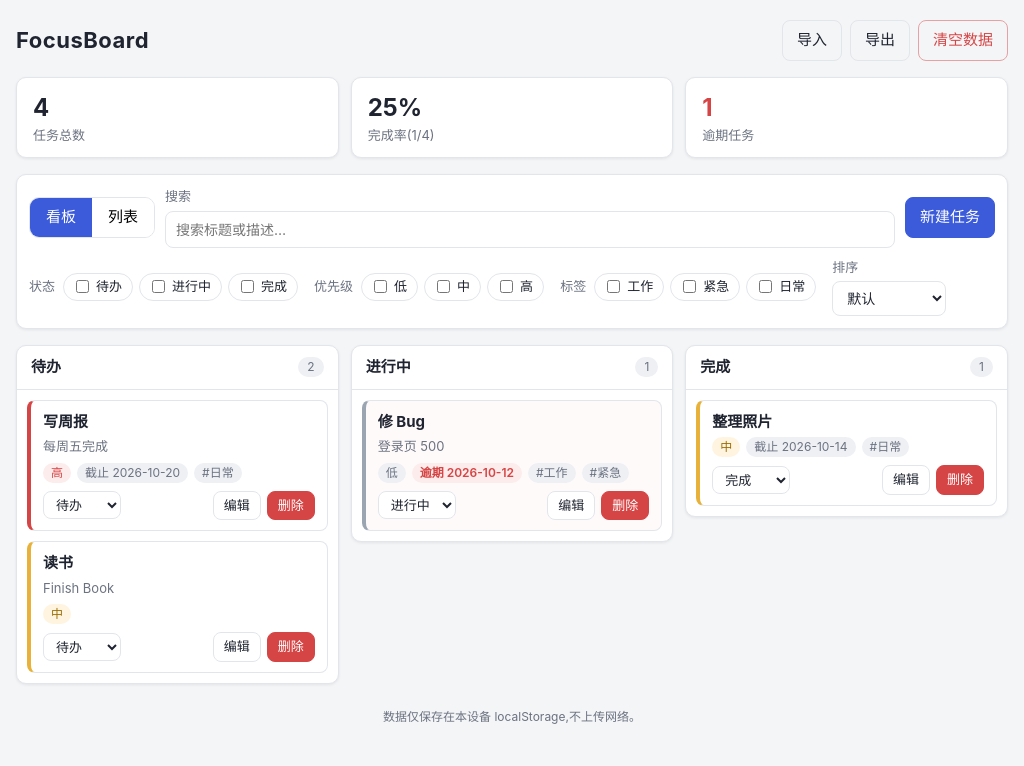
Test: 搜索、筛选、排序 › 状态+优先级组合筛选与清除
Expected: the heading "写周报" is shown, [43, 412, 88, 430]
Click the checkbox labelled "待办". click: (82,287)
box: [76, 280, 89, 293]
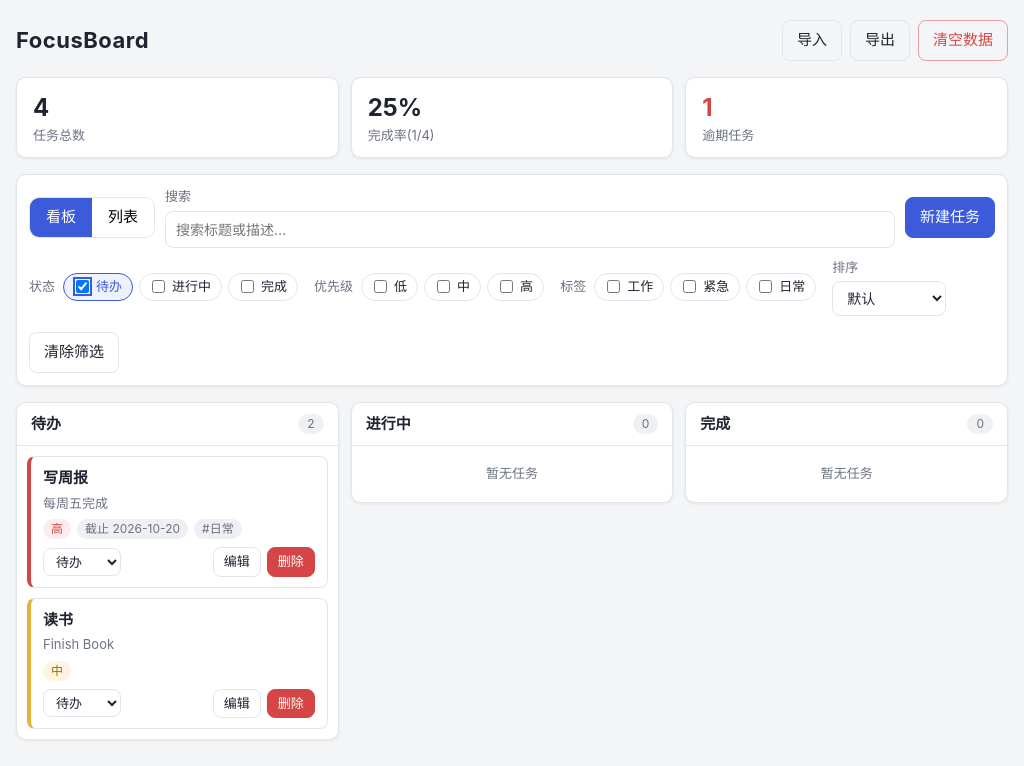
Click the checkbox labelled "高". click: (507,287)
box: [500, 280, 513, 293]
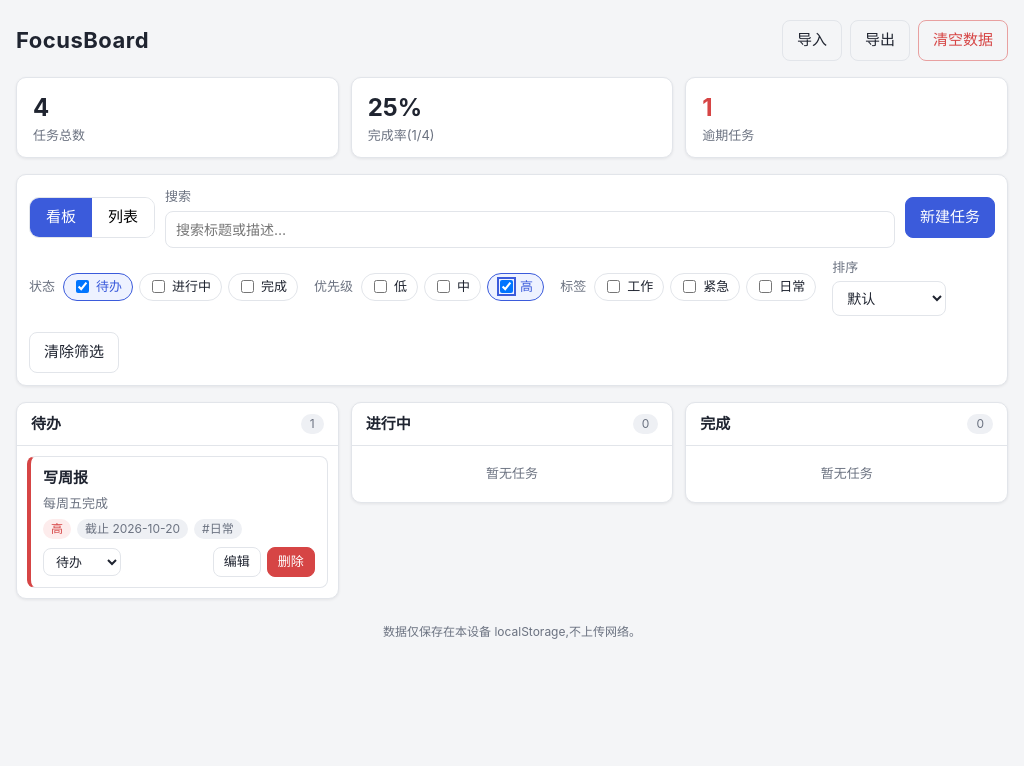
Expected: the heading "修 Bug" is not shown
Expected: the heading "读书" is gone
Click the button with aria-label "清除全部筛选". click: (74,352)
box: [29, 332, 119, 372]
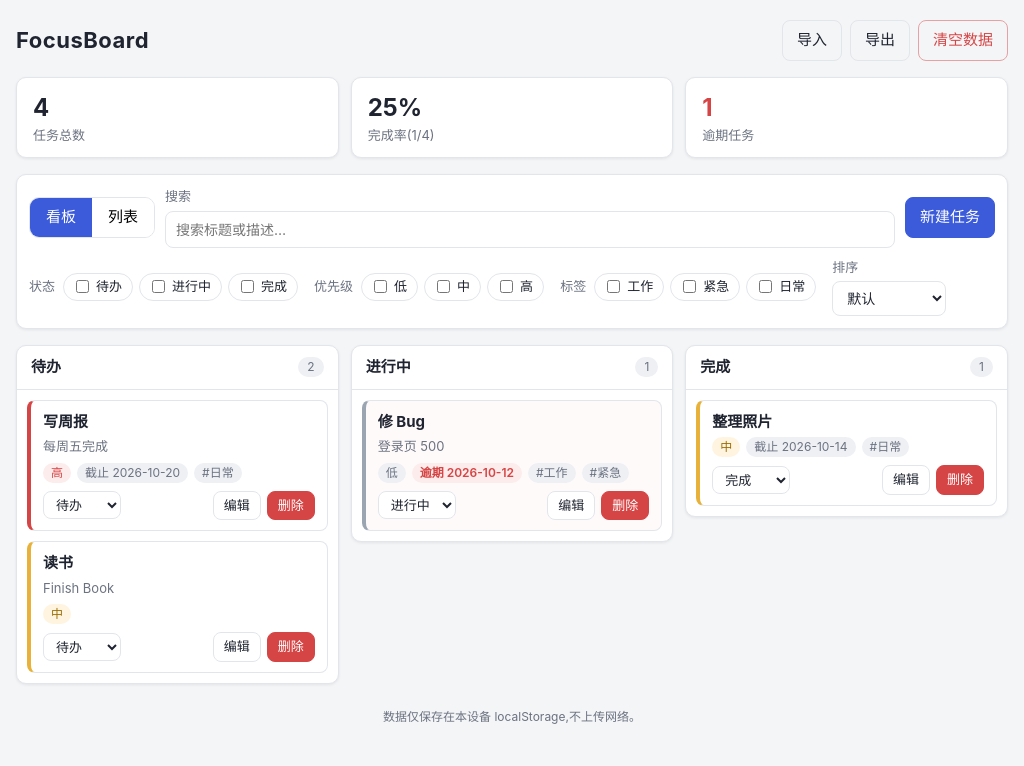
Expected: the heading "修 Bug" is shown, [378, 412, 425, 430]
